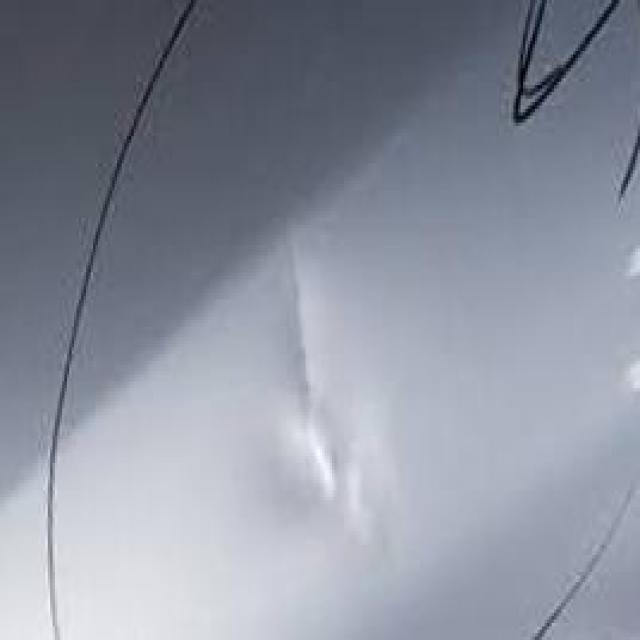dent: (251, 230, 387, 570)
